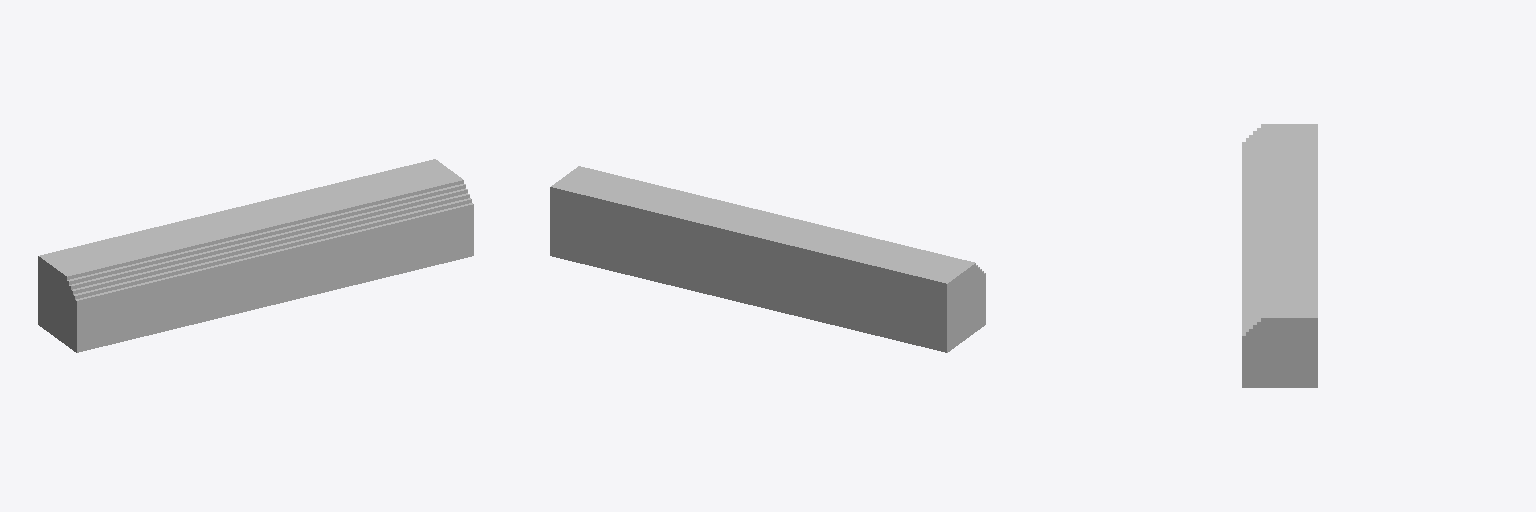
File: map4 bl.obj
The picture shows the model from 3 angles: view 1: azimuth 30°, elevation 25°; view 2: azimuth 150°, elevation 25°; view 3: azimuth 270°, elevation 25°; orthographic projection.
Parts seen in each view (by area): view 1: Untitled.001; view 2: Untitled.001; view 3: Untitled.001.
Part boxes in pixels (x1,y1,x2,y2): Untitled.001: (38, 159, 473, 352); Untitled.001: (550, 166, 985, 352); Untitled.001: (1242, 124, 1317, 387).
Size of the model in its own units: 12 by 2 by 2.